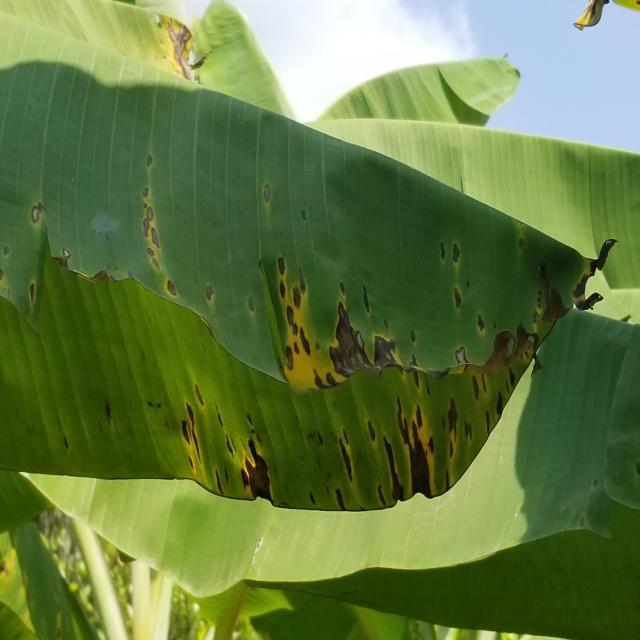Early_rust: (0, 91, 621, 537), (111, 0, 268, 100)
